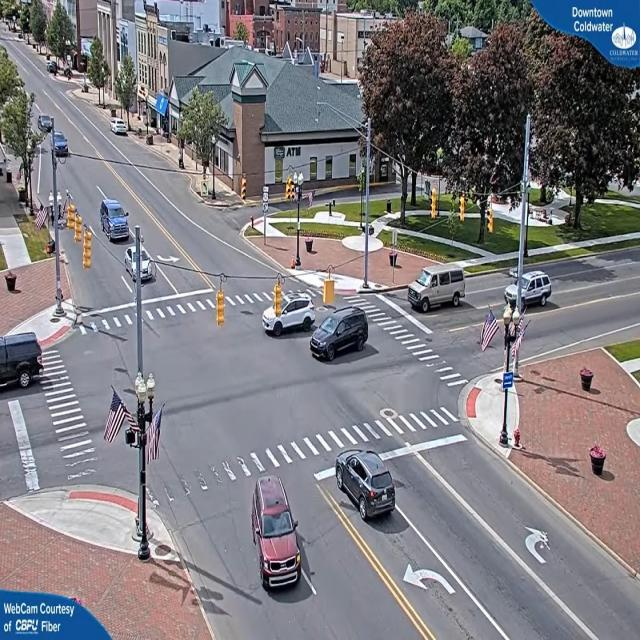car: (249, 480, 304, 595), (337, 452, 400, 523), (308, 309, 369, 362), (408, 262, 467, 312), (0, 328, 44, 394), (264, 283, 315, 337), (506, 270, 555, 310), (101, 201, 131, 242), (130, 240, 154, 284), (53, 130, 70, 159), (111, 119, 129, 136), (39, 116, 54, 135)
